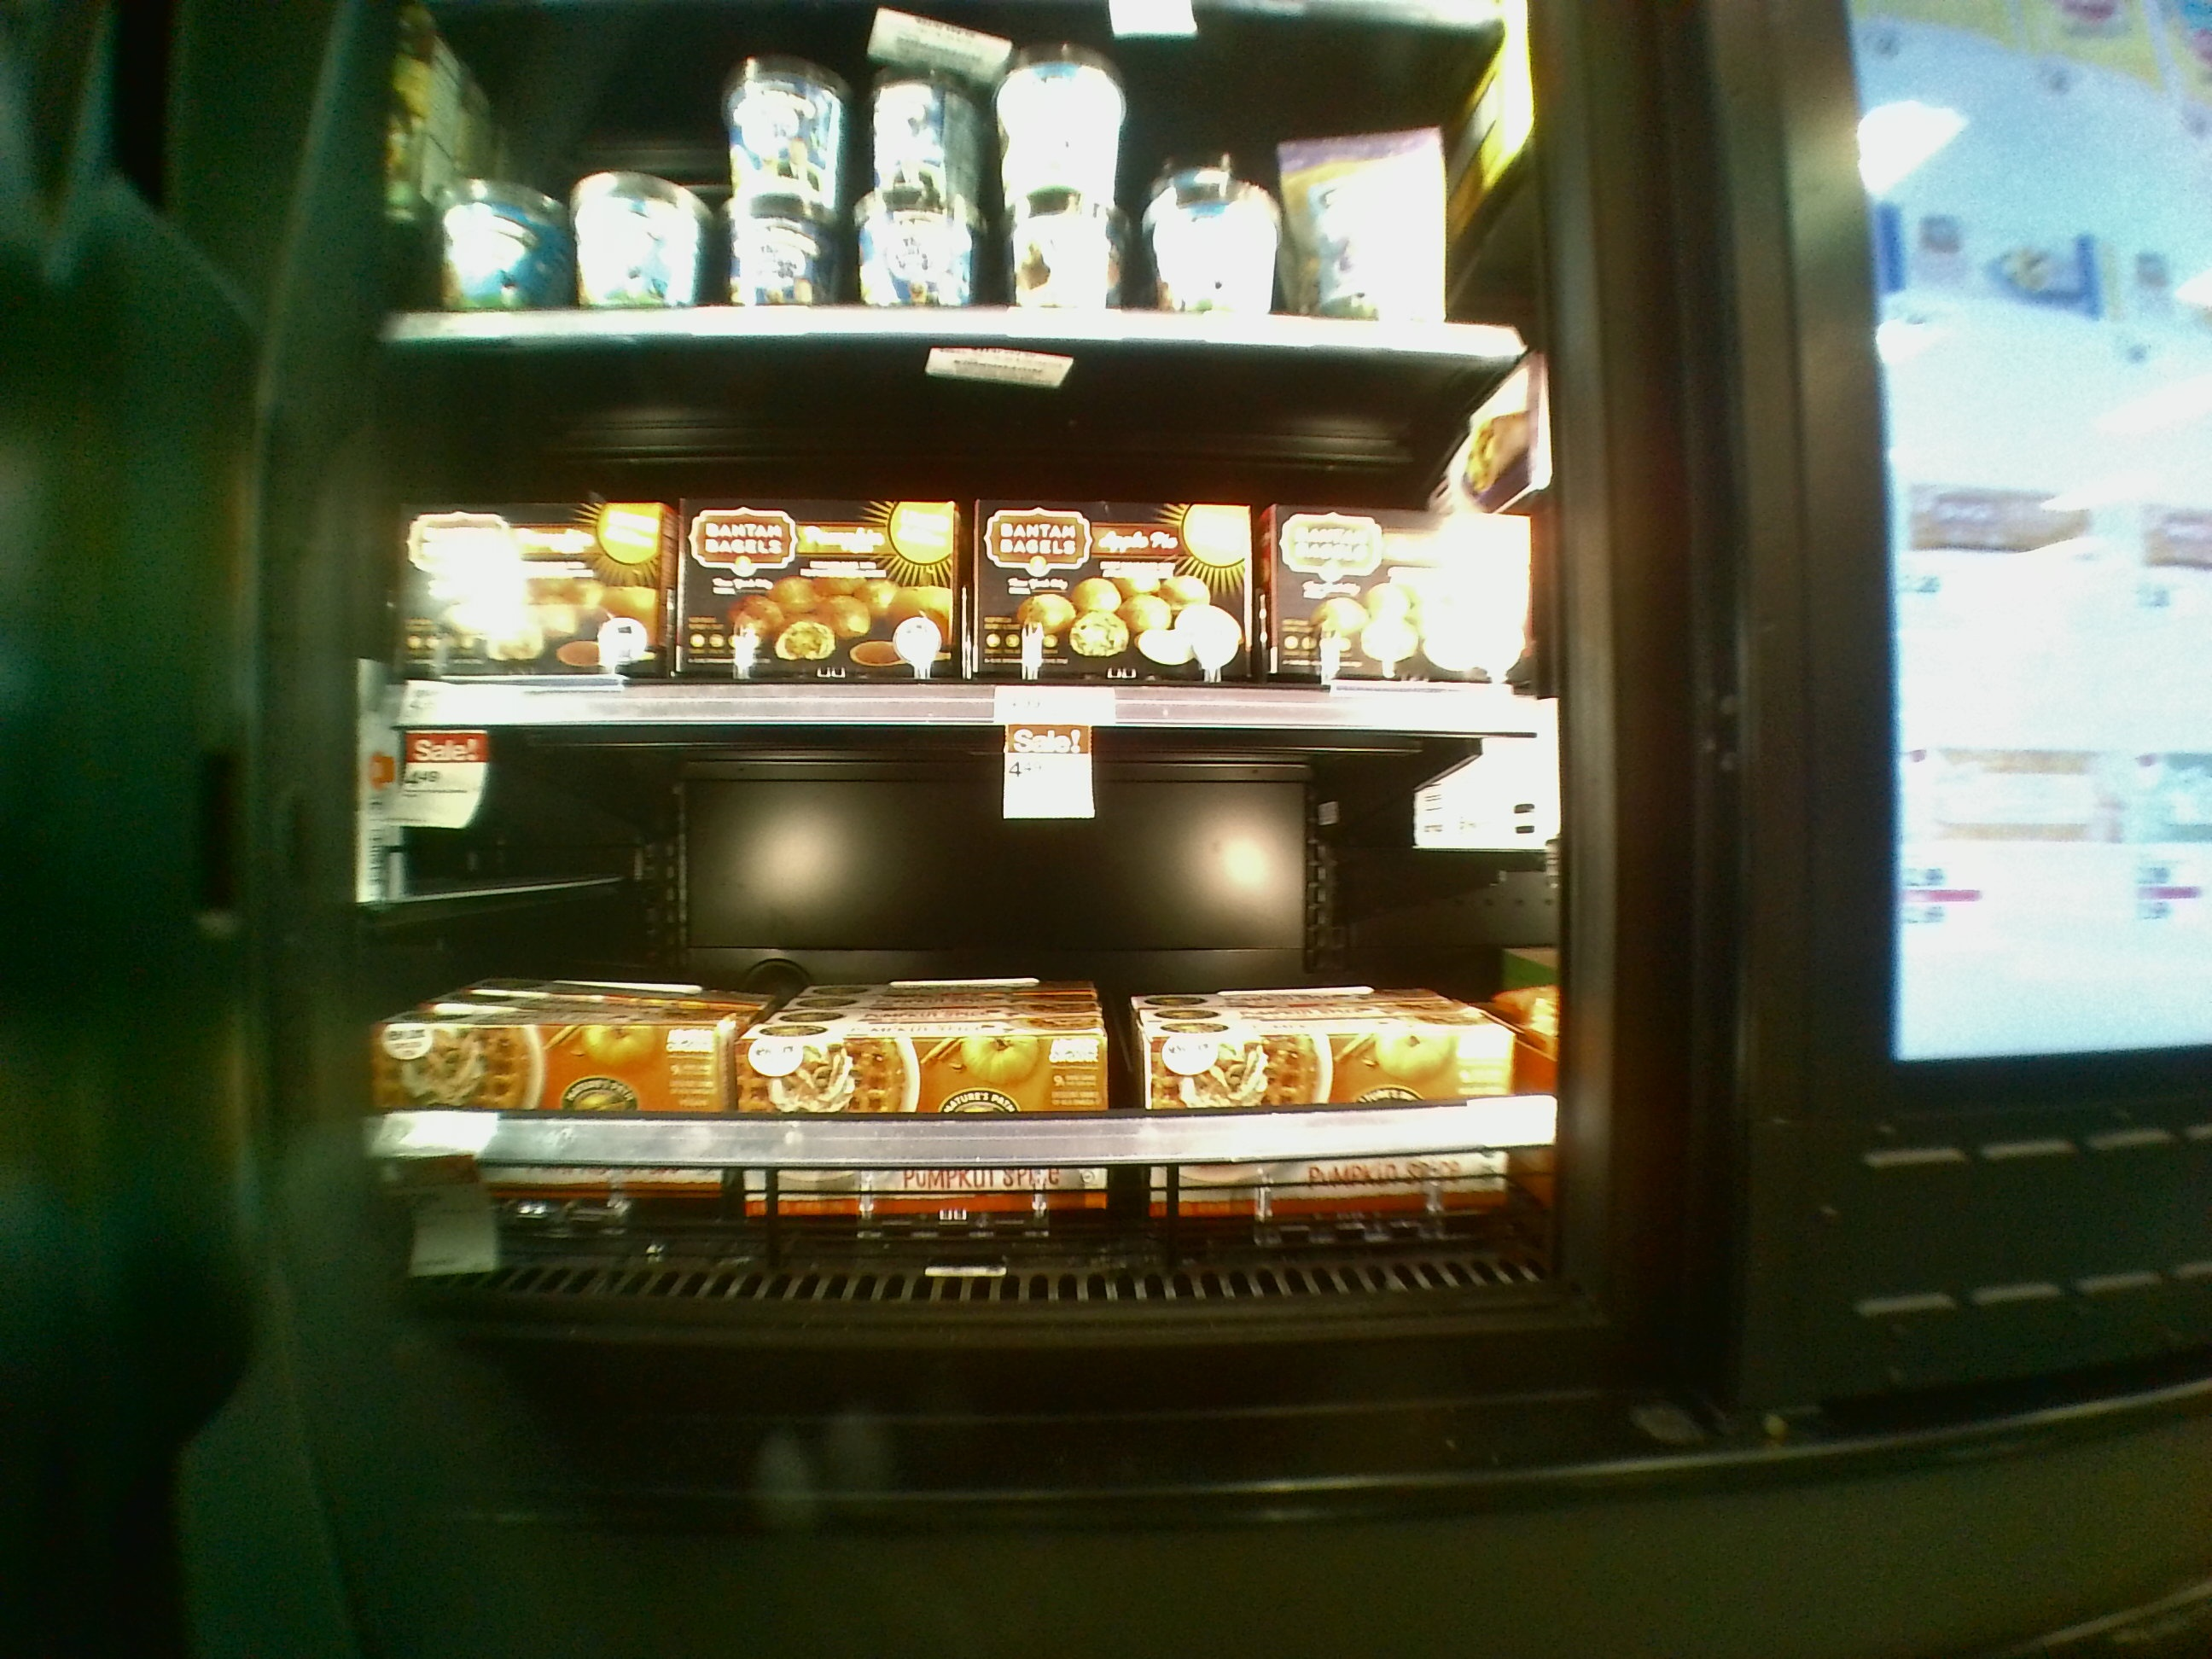shelf: (359, 688, 1575, 1305), (341, 305, 1566, 741)
